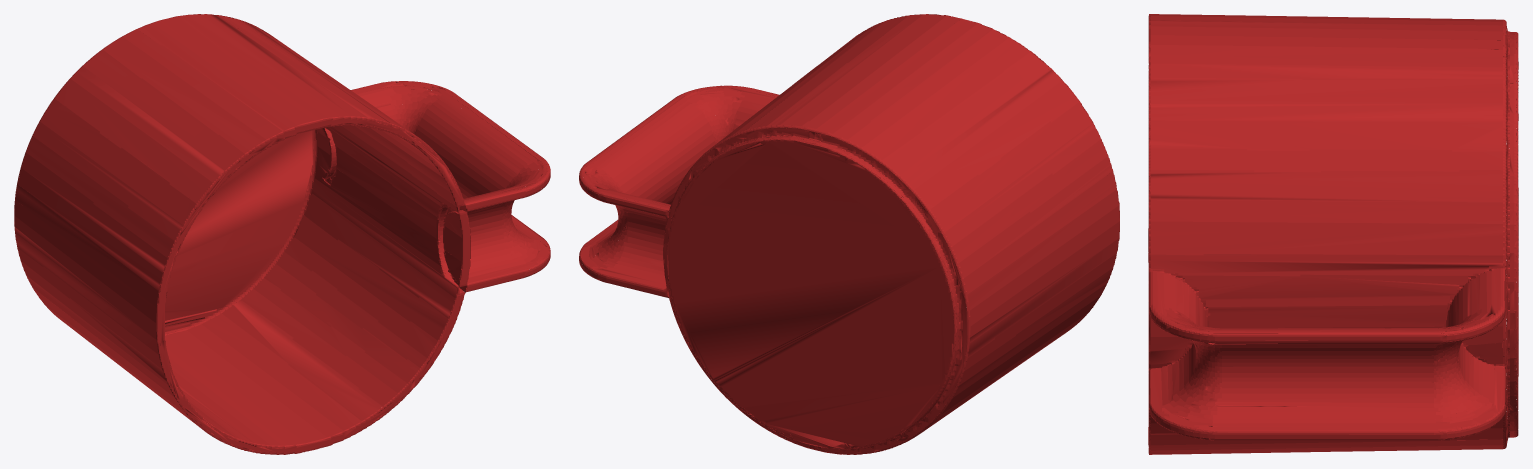
3 views of the same model, side by side, from view 1: azimuth 30°, elevation 25°; view 2: azimuth 150°, elevation 25°; view 3: azimuth 270°, elevation 25° (orthographic). The views are drawn at different scales.
Visible parts, largest first — view 1: vignelli_cup; view 2: vignelli_cup; view 3: vignelli_cup.
Boxes of the visible parts, bbox=[...] form: vignelli_cup: bbox=[14, 14, 550, 454]; vignelli_cup: bbox=[579, 14, 1119, 454]; vignelli_cup: bbox=[1148, 14, 1518, 454].
Bounding box in the file's own units: 0.0587 × 0.0443 × 0.0372.
